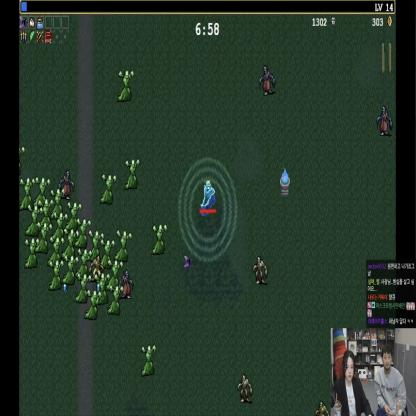streamer: (334, 349, 373, 416), (375, 345, 406, 416)
